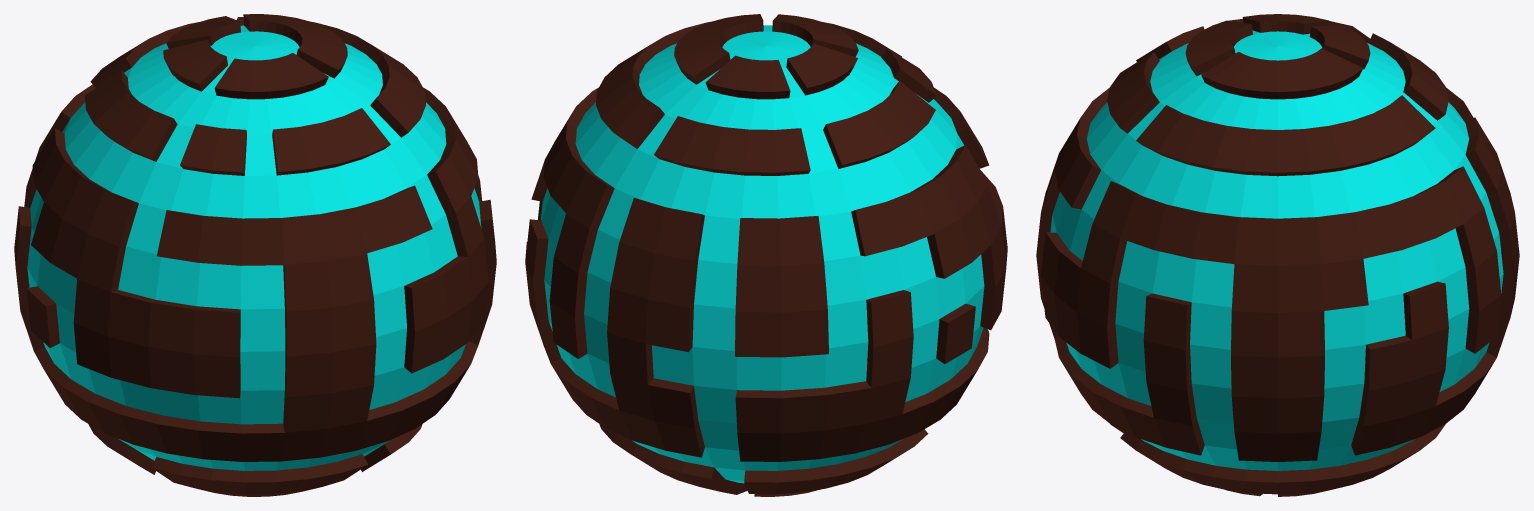
The model's file is BalonDeJuego2.fbx.
3 renders of one model, left to right at view 1: azimuth 30°, elevation 25°; view 2: azimuth 150°, elevation 25°; view 3: azimuth 270°, elevation 25°, orthographic.
Visible parts, largest first — view 1: Sphere; view 2: Sphere; view 3: Sphere.
Part boxes in pixels (bbox=[...]): Sphere: bbox=[14, 14, 496, 496]; Sphere: bbox=[525, 14, 1007, 496]; Sphere: bbox=[1036, 14, 1519, 496].
Bounding box in the file's own units: 200 × 196 × 200.
